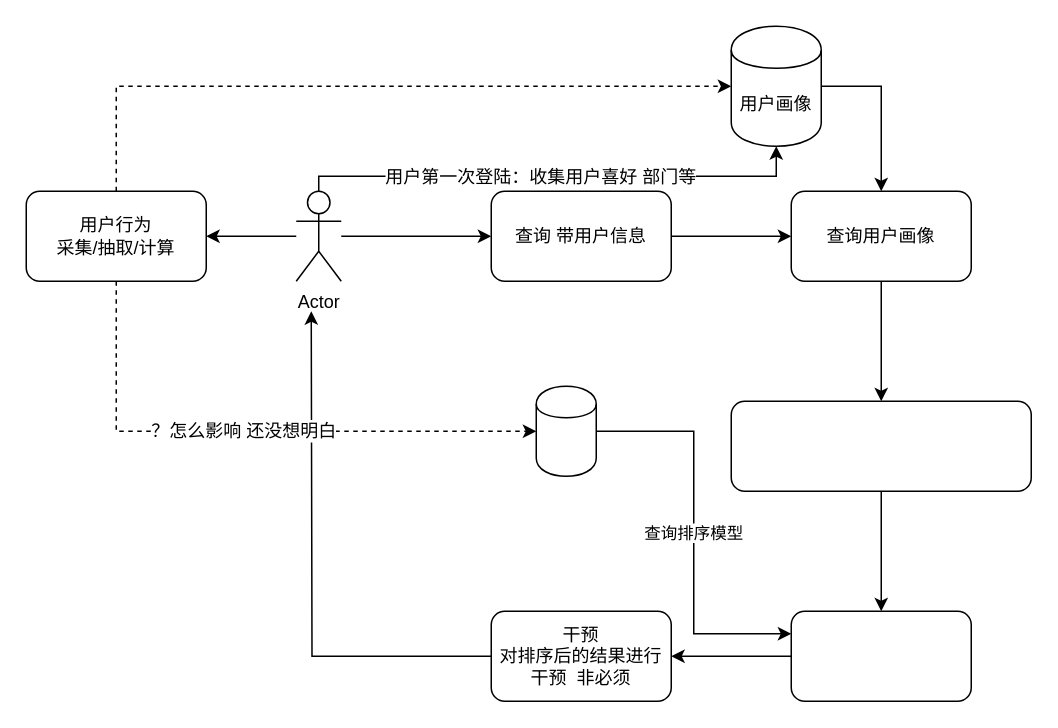
This 1058x728 diagram has some shape labels left out. The centre of each missing label's shape, as x and y in pixels:
"召回阶段 根据用户画像关键点查询各种数据: db 中app数据 es 关键词搜索" goes at [880,445].
"排序 根据目标进行排序 以某种排序模型为规则" goes at [880,655].
"排序模型" goes at [565,430].
